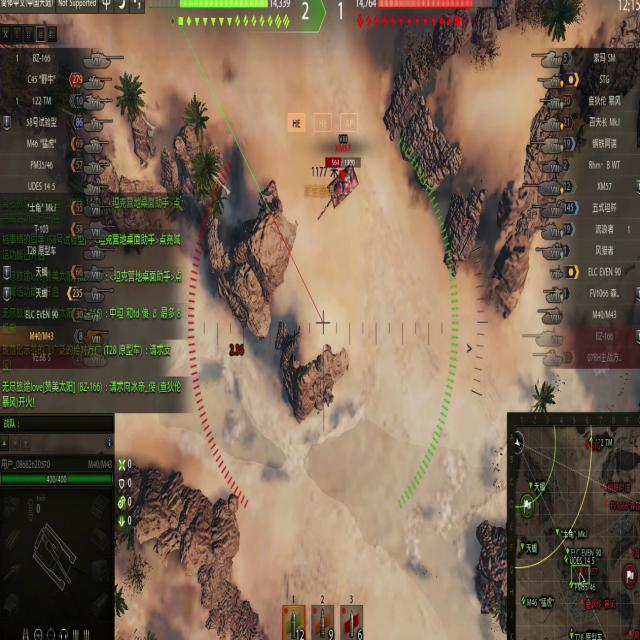tank: (323, 154, 362, 211)
